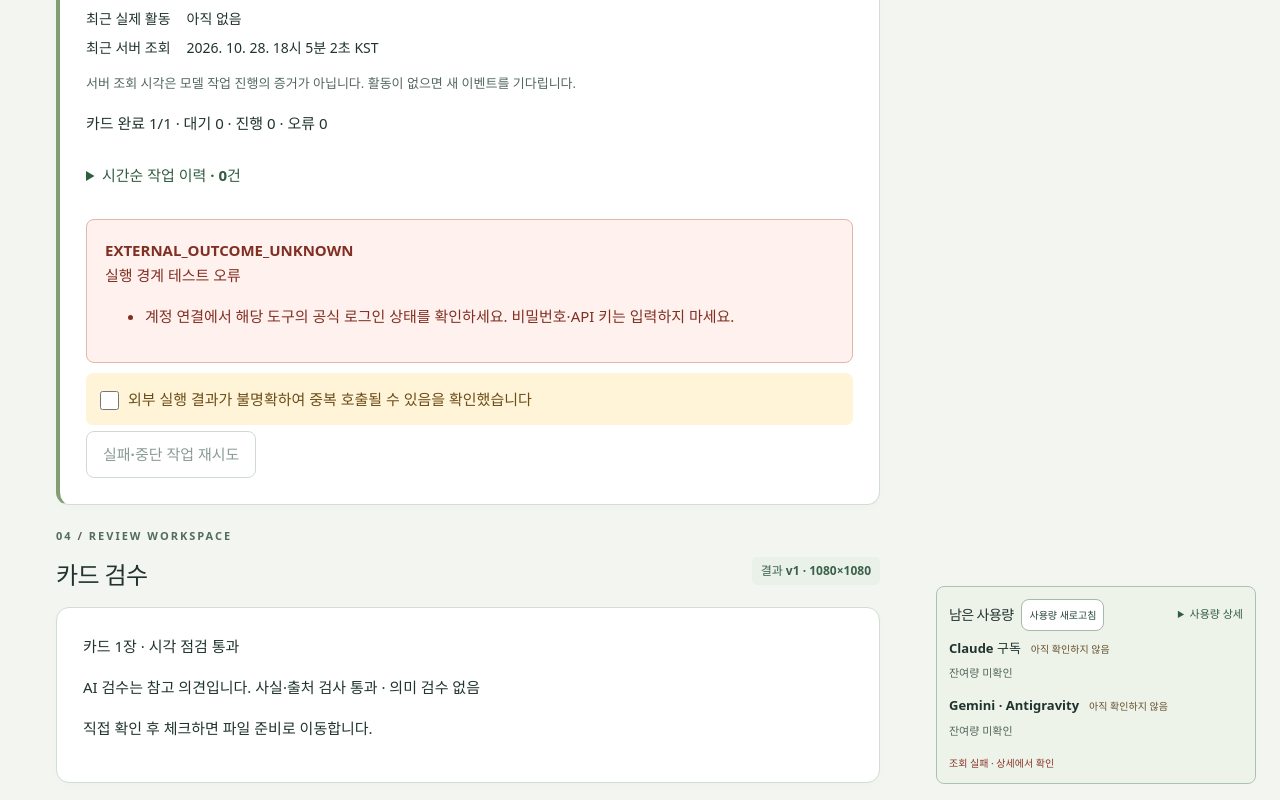
it: 복원·충돌·오류 화면 › 외부 결과 불명의 중단은 중복 위험 확인 전 재시도를 막는다
(page scrolled)
Check: the button "실패·중단 작업 재시도" is disabled, box x1=86 y1=431 x2=256 y2=478
Click the checkbox labelled "외부 실행 결과가 불명확하여 중복 호출될 수 있음을 확인했습니다": (110, 400) x1=100 y1=391 x2=119 y2=410
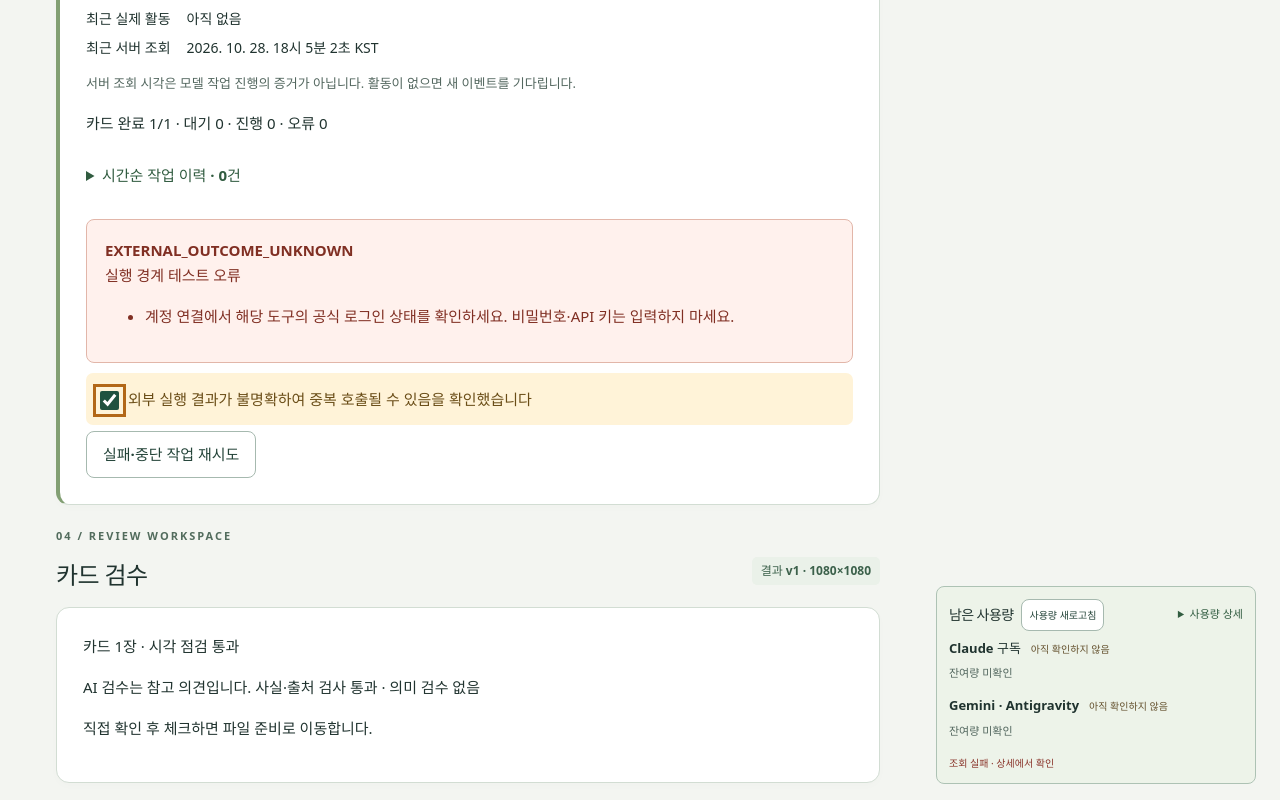
Check: the button "실패·중단 작업 재시도" is enabled, box x1=86 y1=431 x2=256 y2=478
